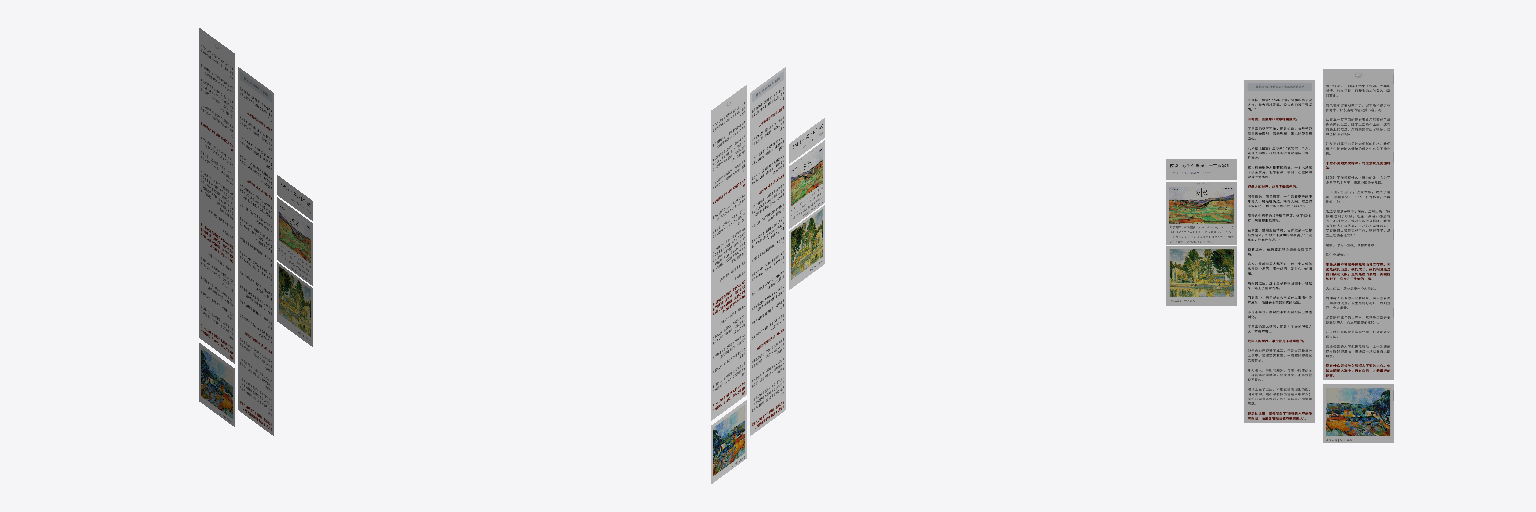
3 views of the same model, side by side, from view 1: azimuth 30°, elevation 25°; view 2: azimuth 150°, elevation 25°; view 3: azimuth 270°, elevation 25° (orthographic).
Bounding box in the file's own units: 0 × 141 × 77.5.
6 materials, 6 textured.